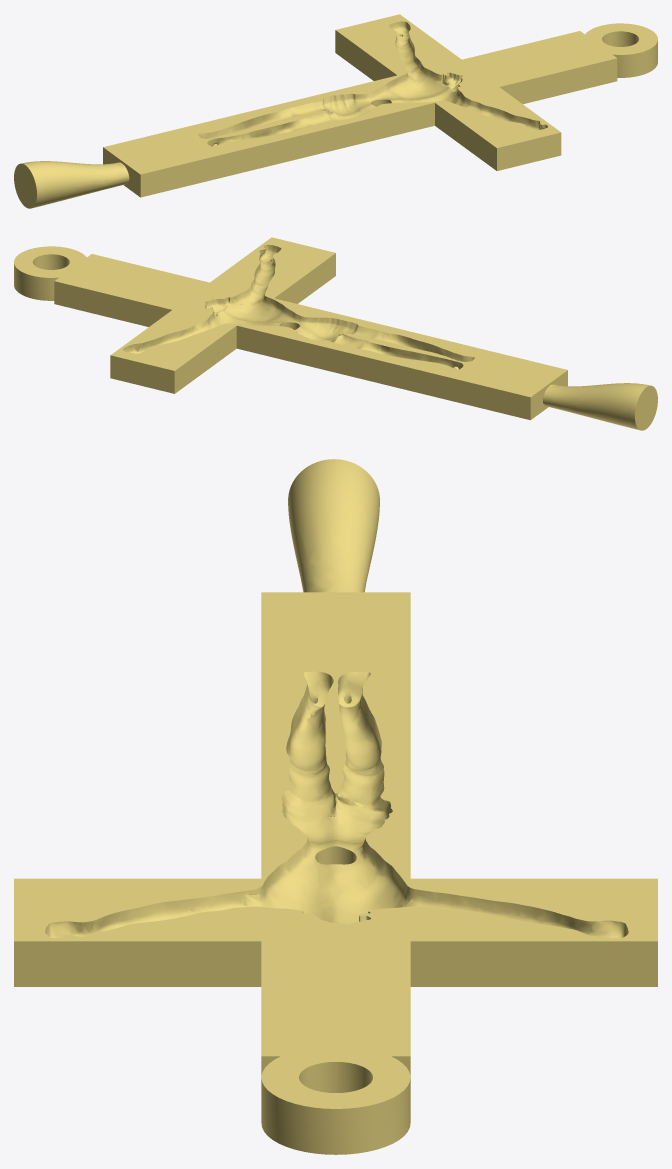
Rendered from kolye2-20_isa.glb.
The picture shows the model from 3 angles, top to bottom: view 1: azimuth 30°, elevation 25°; view 2: azimuth 150°, elevation 25°; view 3: azimuth 270°, elevation 25°; orthographic projection. The views are drawn at different scales.
Visible parts, largest first — view 1: Renderer Node; view 2: Renderer Node; view 3: Renderer Node.
Boxes of the visible parts, x1,y1,x2,y2 form: Renderer Node: (14,14,657,208); Renderer Node: (14,237,657,430); Renderer Node: (14,459,657,1154).
Bounding box in the file's own units: 32.52 × 2.11 × 14.49.
